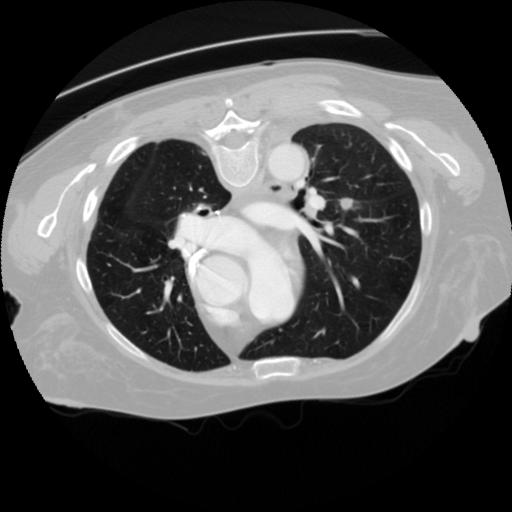nodule: (333, 192, 356, 215)
